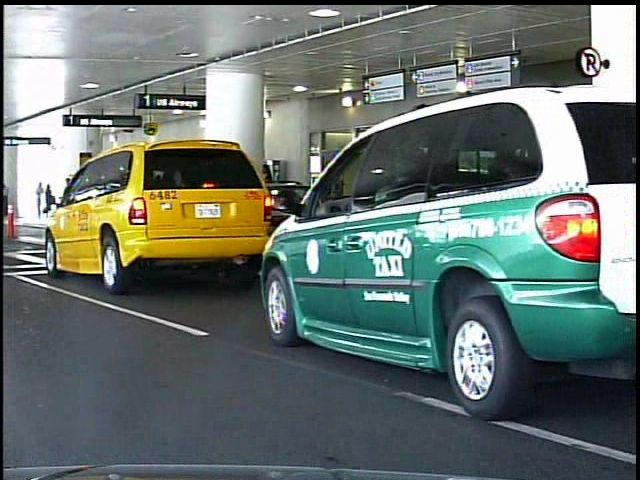person: (45, 181, 57, 220), (36, 180, 47, 220), (4, 183, 13, 218)
